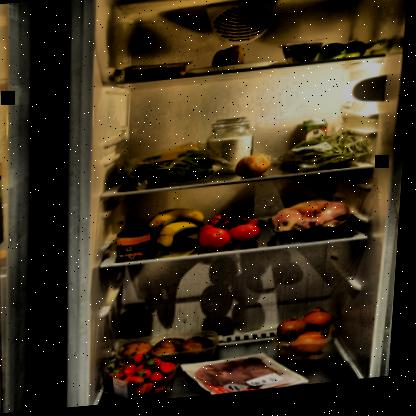banana: (141, 208, 212, 255)
cheese: (212, 47, 248, 73)
chicken: (269, 200, 361, 250)
corn: (116, 230, 155, 264)
green_beans: (285, 132, 374, 178)
heavy_cream: (301, 124, 333, 162)
lime: (312, 45, 371, 67)
onion: (280, 307, 342, 370)
potato: (117, 333, 220, 367)
shrimp: (122, 65, 184, 87)
spinach: (117, 144, 230, 194)
strawberries: (104, 350, 188, 406)
sweet_potato: (232, 155, 280, 185)
tomato: (199, 212, 268, 256)
